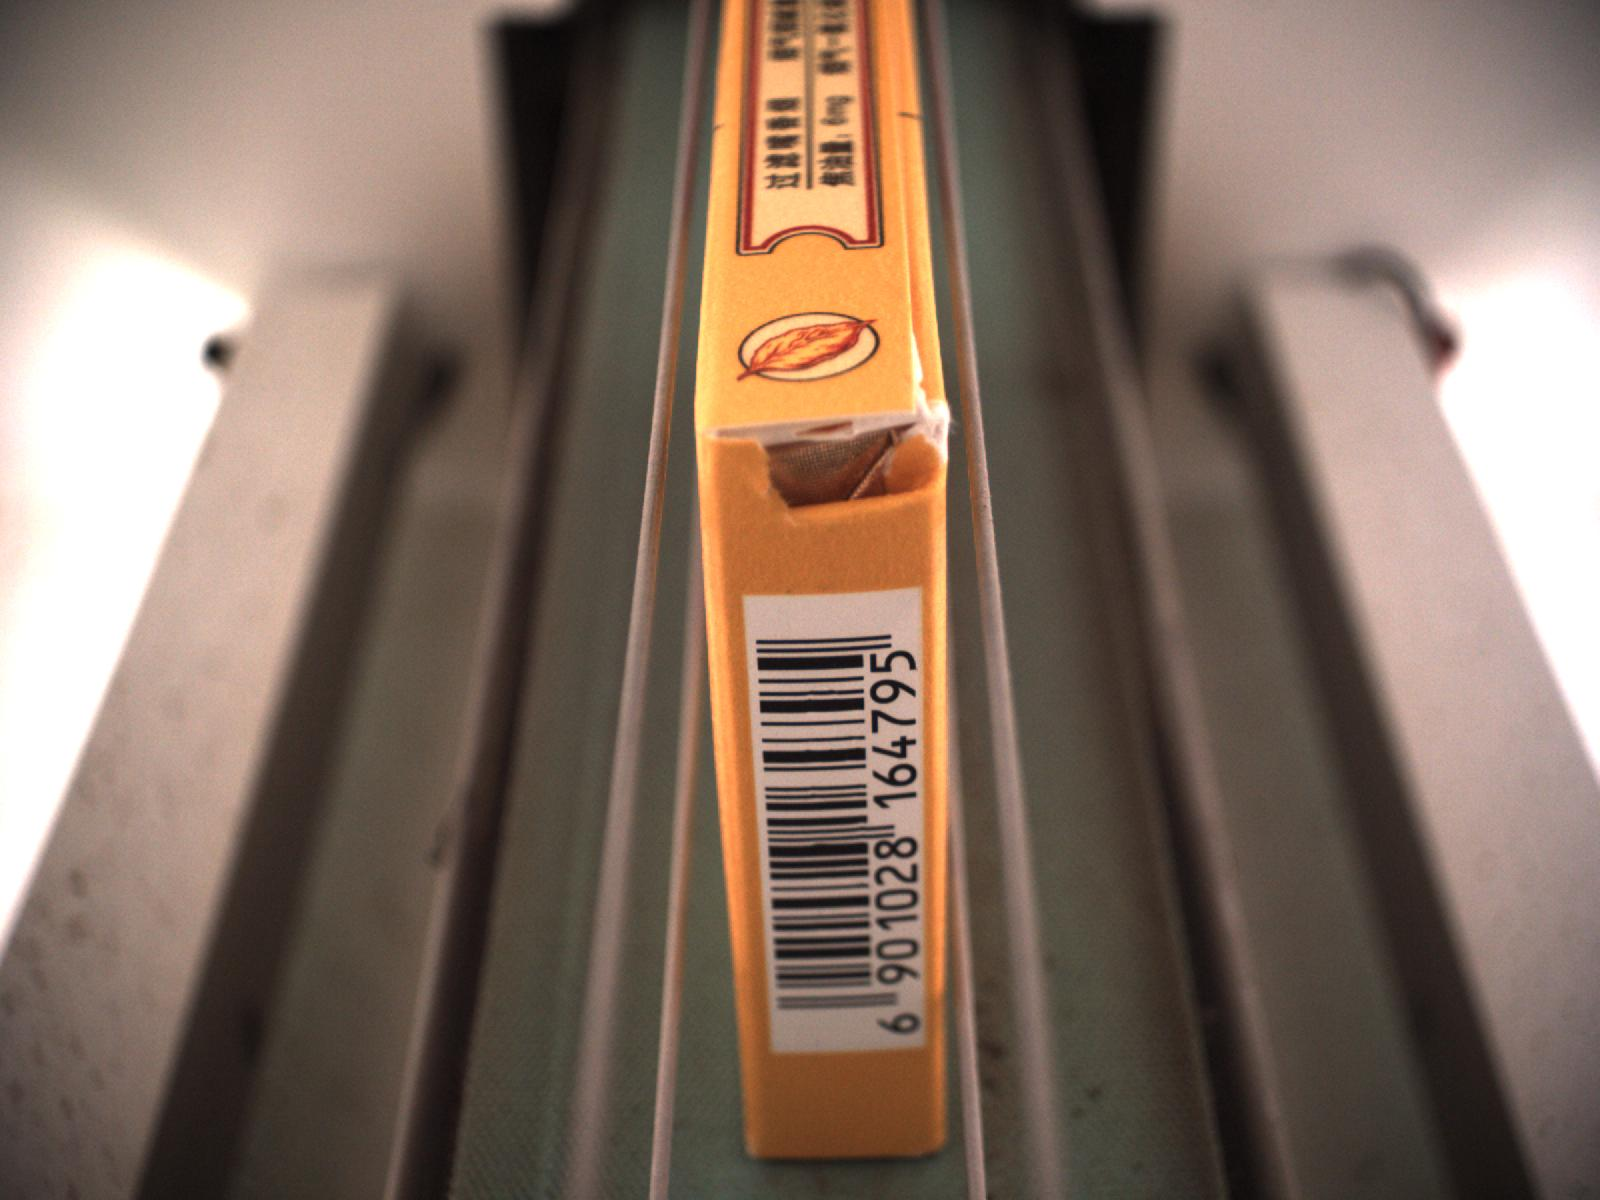cornerBreak: (694, 388, 952, 526)
